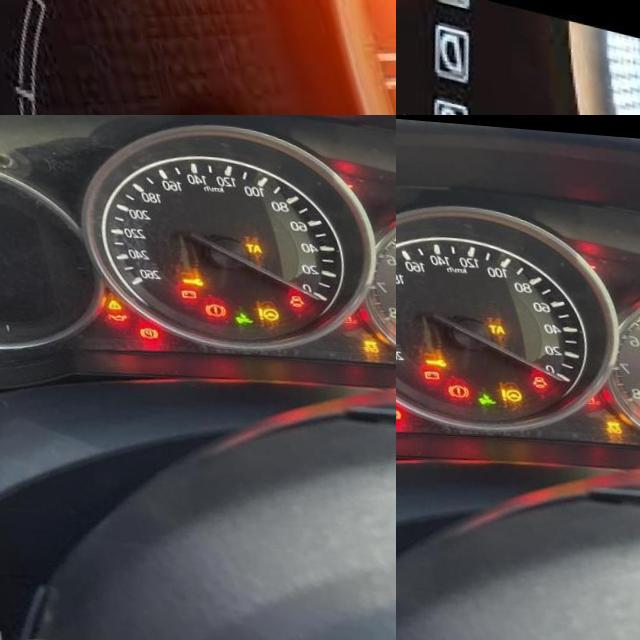Electronic Power Steering: (248, 299, 271, 315), (491, 380, 514, 396)
High Engine Coolant Temperature: (334, 306, 349, 317), (577, 387, 592, 398)
Seat Belt: (634, 394, 640, 406), (391, 313, 396, 325)
